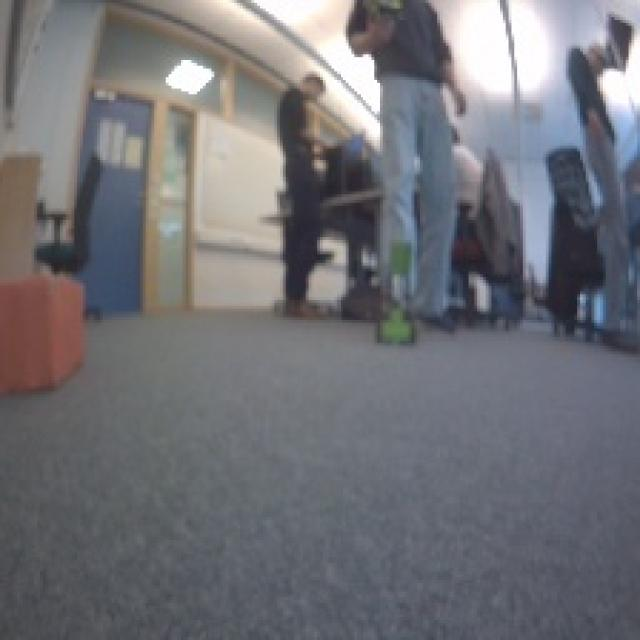robot: (372, 234, 417, 346)
target: (0, 269, 86, 394)
